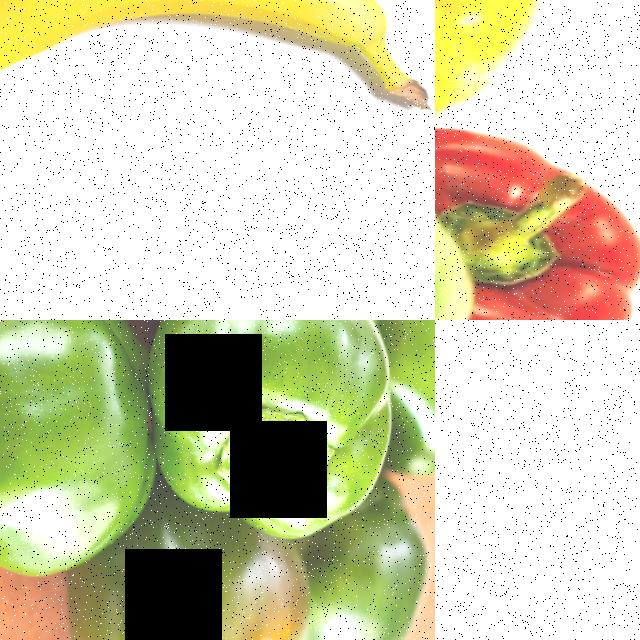banana: (0, 0, 435, 151), (435, 320, 535, 640)
bell pepper: (153, 320, 398, 520), (441, 116, 640, 320), (0, 320, 161, 555), (435, 0, 571, 105)
